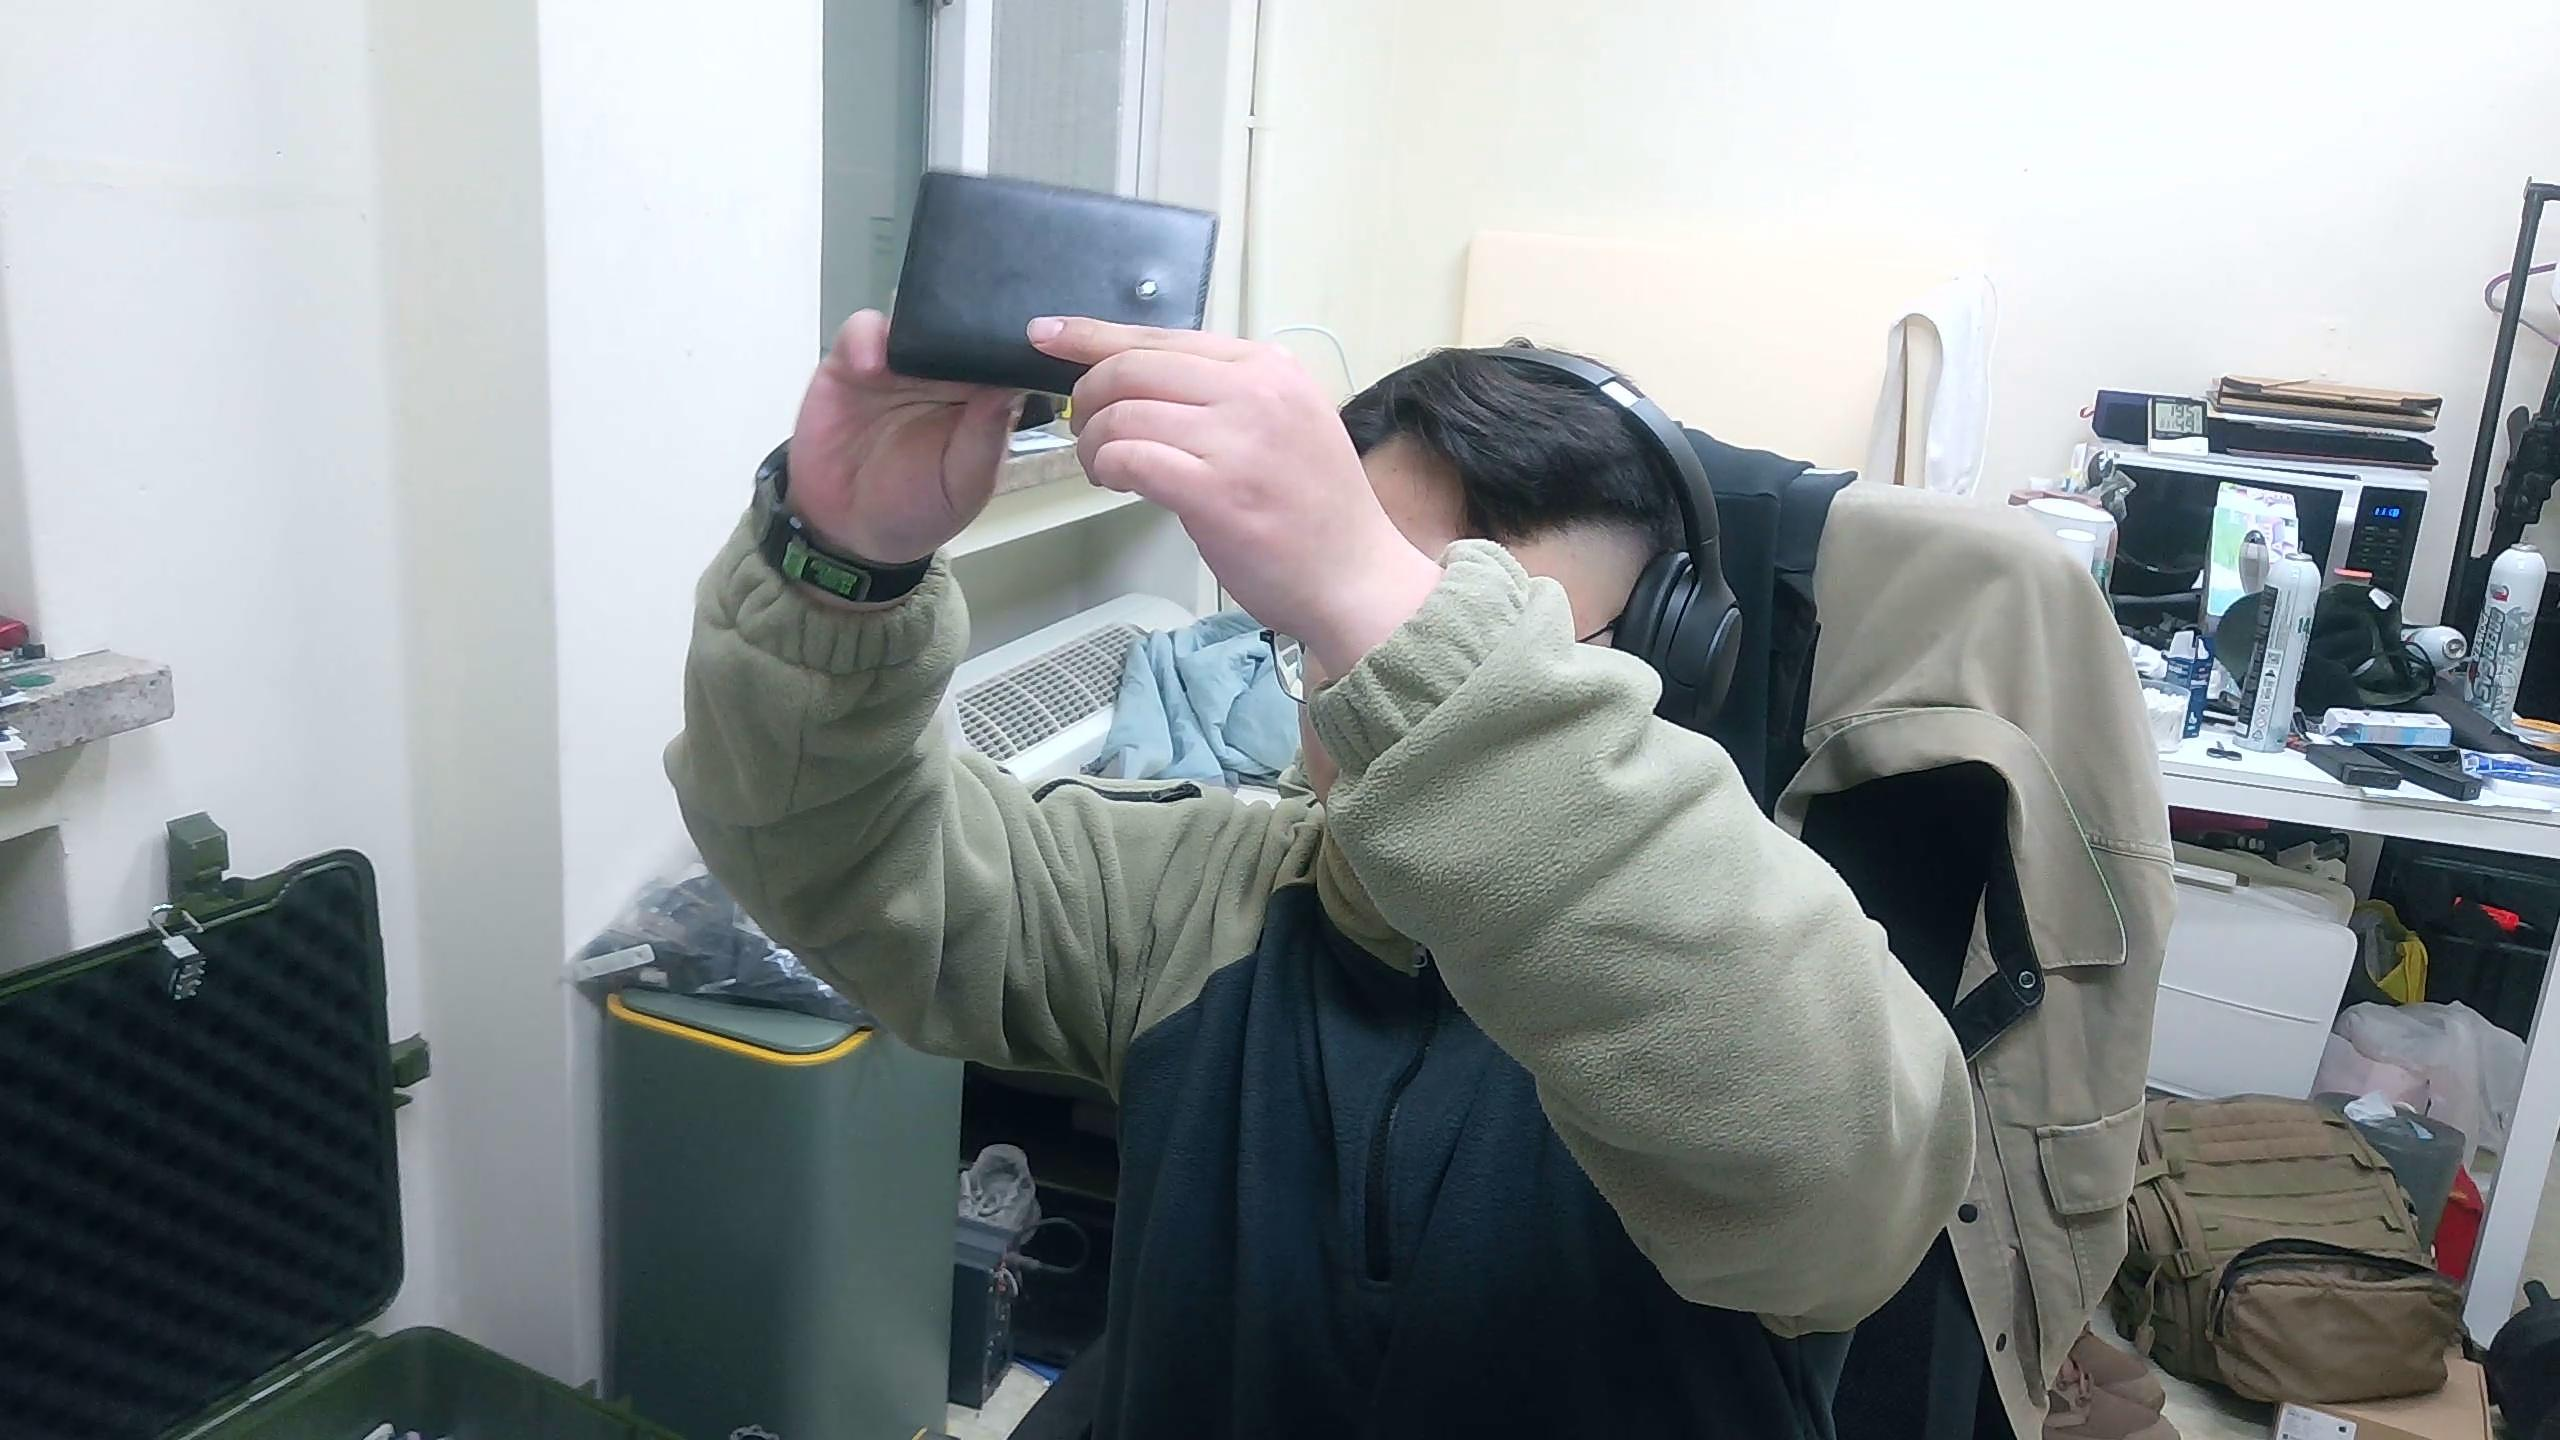earphone: (884, 165, 1225, 399)
